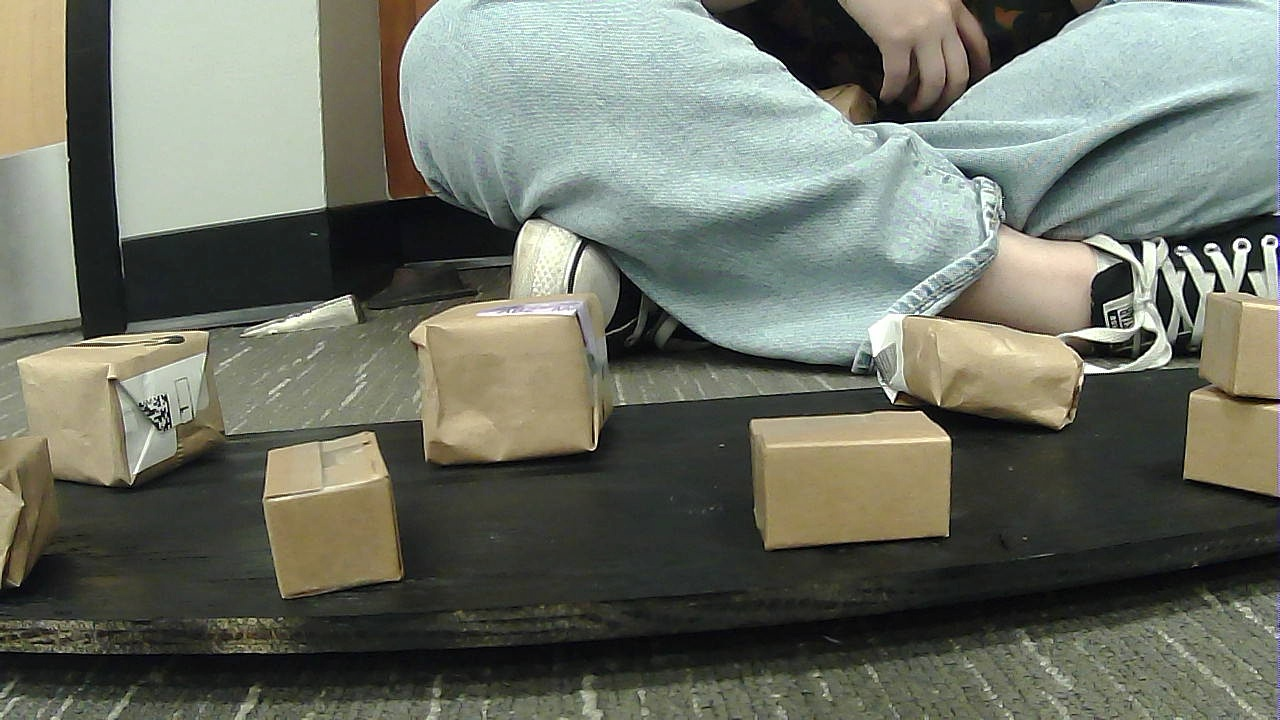package: (17, 324, 256, 478), (404, 295, 620, 462), (738, 411, 973, 554), (860, 312, 1087, 437), (255, 442, 431, 594), (3, 430, 87, 578), (1186, 385, 1276, 502), (1188, 288, 1276, 401)
stacked: (1186, 287, 1278, 501)
